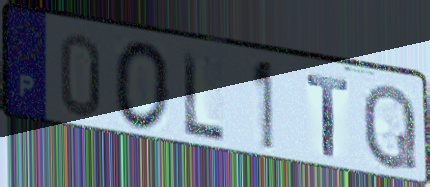0: (57, 31, 104, 122)
1: (250, 57, 277, 157)
L: (180, 47, 228, 143)
O: (111, 37, 172, 135)
Q: (360, 80, 420, 173)
T: (304, 72, 351, 161)
